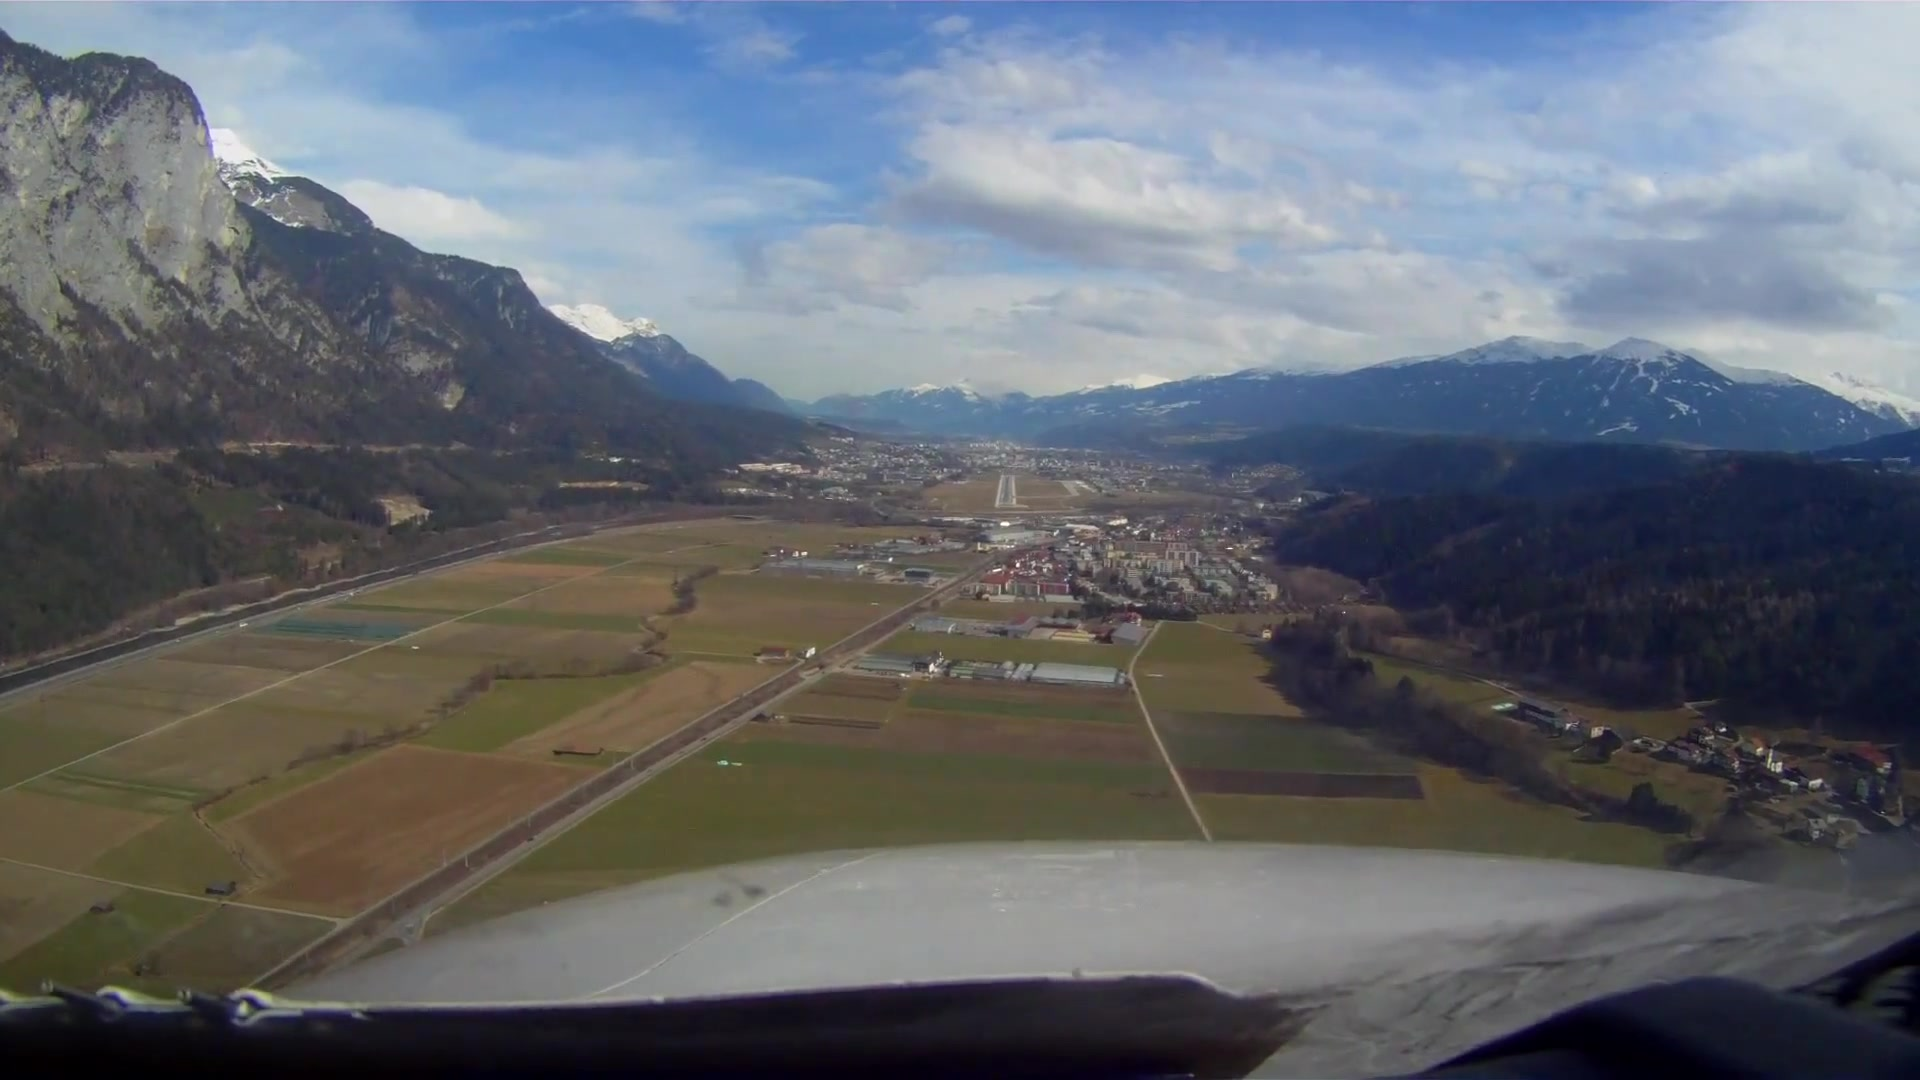runway: (993, 473, 1015, 509)
